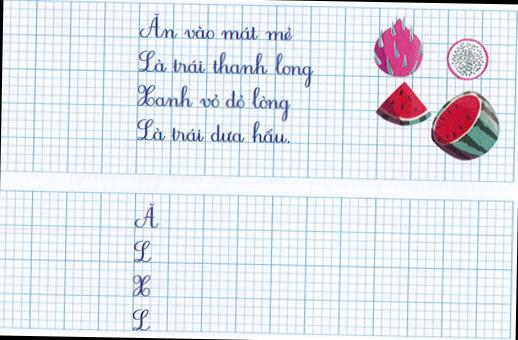text: (137, 48, 316, 88), (134, 84, 292, 122), (138, 11, 292, 43), (134, 118, 292, 146), (133, 201, 161, 230), (128, 308, 152, 332), (131, 239, 153, 264), (130, 273, 152, 298)
